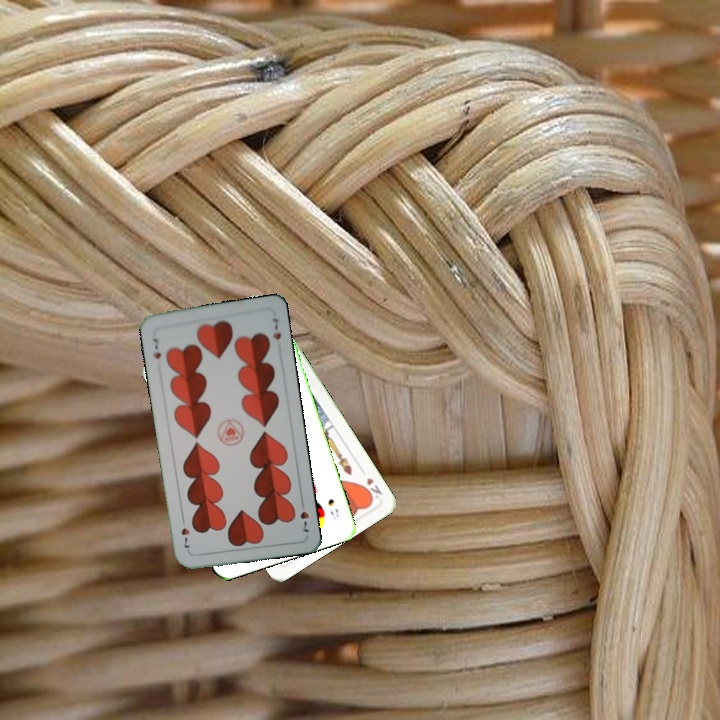H7: (296, 496, 312, 536), (149, 334, 163, 361)
HK: (359, 473, 385, 504)
S8: (324, 495, 341, 522)
